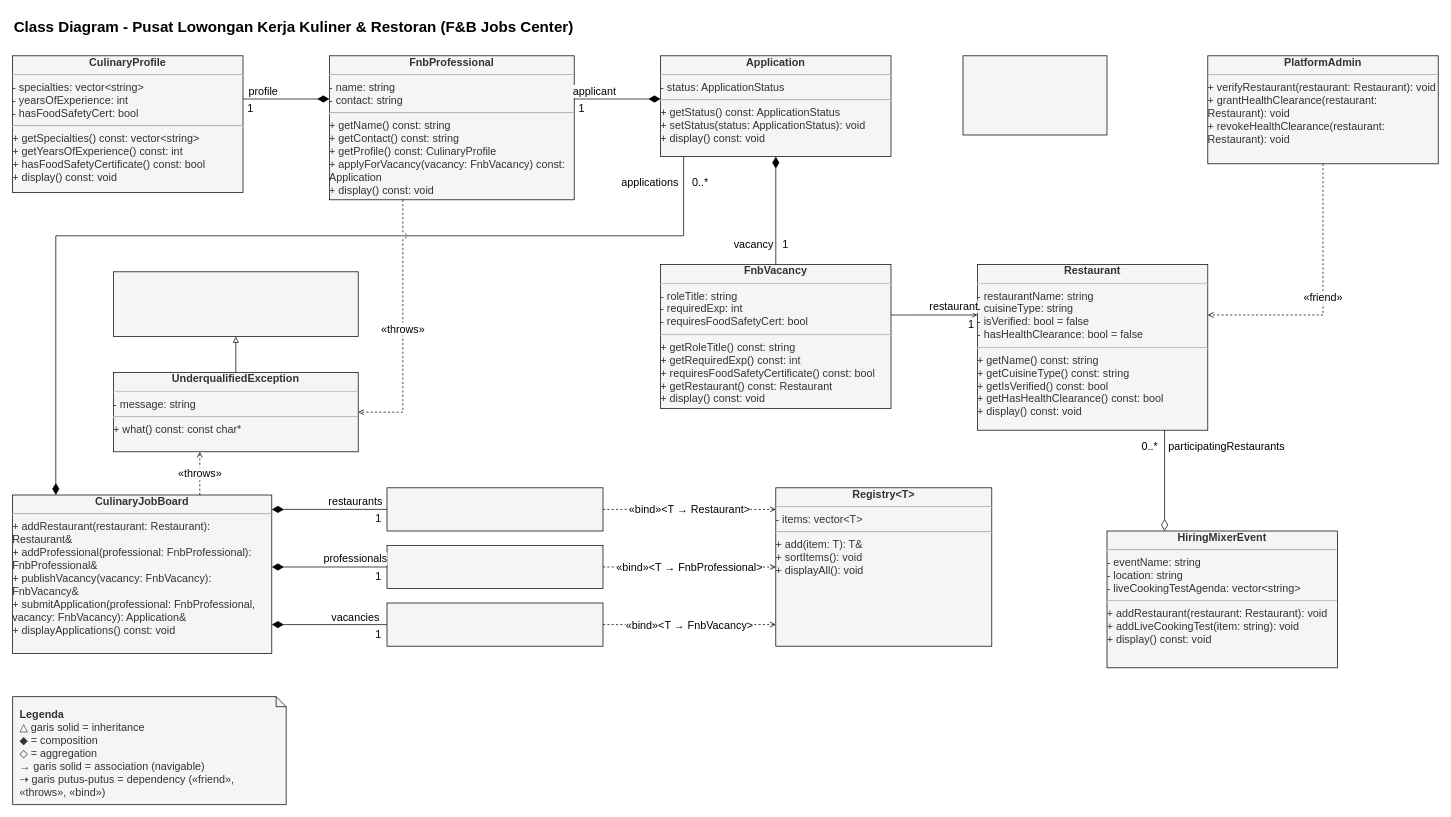
Image size: 1451x817. Some labels were removed from this diagram. Here are the shapes that lost their labels. From the top down, the centre of each, then its label:
At (x=1034, y=95): "«enumeration» ApplicationStatus Pending Accepted Rejected".
At (x=235, y=304): "«std» std::exception + what() const noexcept: const char*".
At (x=494, y=509): "Registry<Restaurant>".
At (x=494, y=567): "Registry<FnbProfessional>".
At (x=494, y=624): "Registry<FnbVacancy>".
